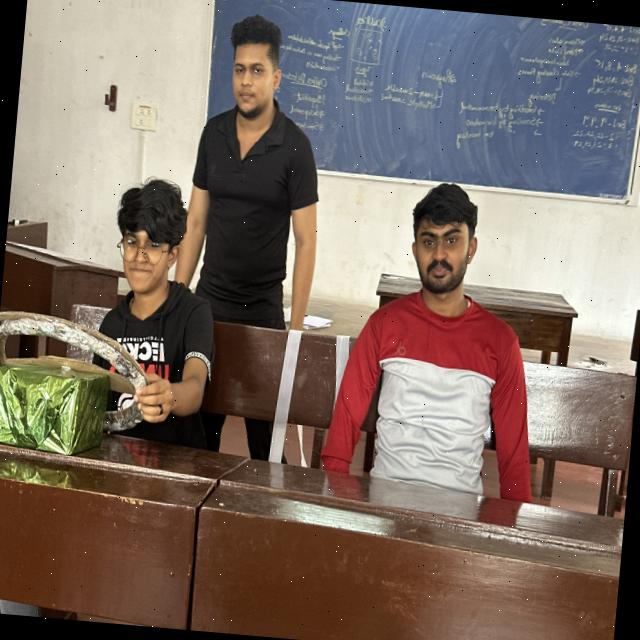no-seatbelt: (338, 289, 528, 497), (176, 86, 322, 352), (85, 265, 216, 460)
